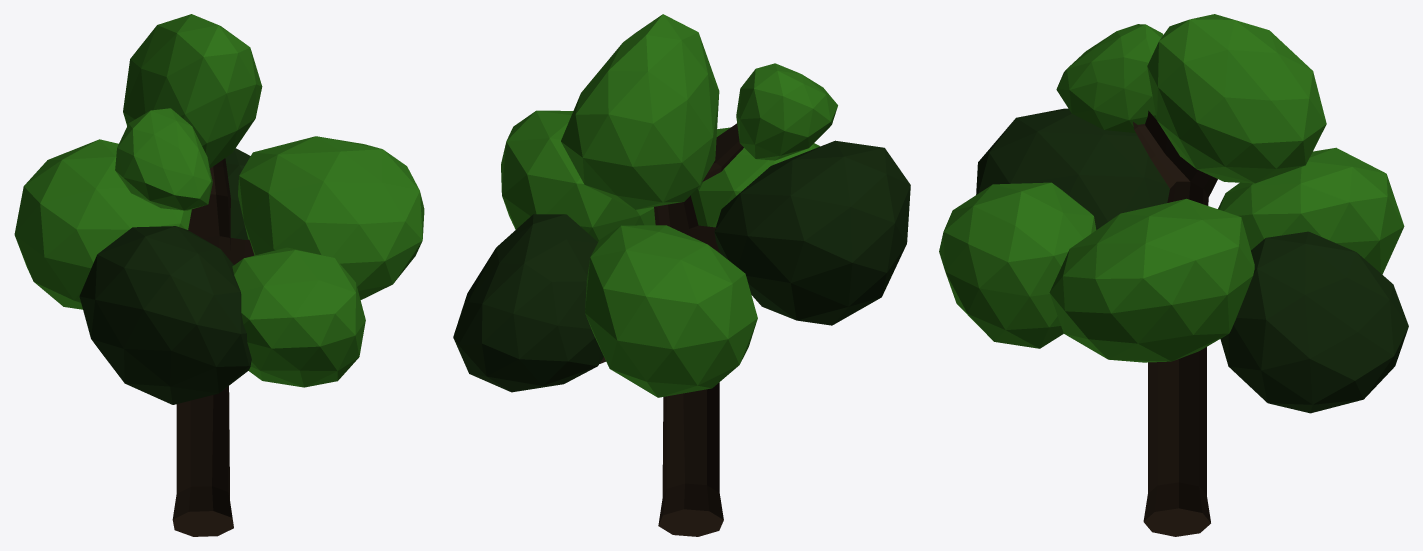
Rendered from Append-TreeSummer.obj.
3 renders of one model, left to right at view 1: azimuth 30°, elevation 25°; view 2: azimuth 150°, elevation 25°; view 3: azimuth 270°, elevation 25°, orthographic. The views are drawn at different scales.
Parts seen in each view (by area): view 1: Cylinder.003_Cylinder.000; view 2: Cylinder.003_Cylinder.000; view 3: Cylinder.003_Cylinder.000.
Part boxes in pixels (left/top/right/bottom): Cylinder.003_Cylinder.000: left=14, top=14, right=424, bottom=536; Cylinder.003_Cylinder.000: left=453, top=14, right=910, bottom=536; Cylinder.003_Cylinder.000: left=939, top=14, right=1408, bottom=536.
Bounding box in the file's own units: 11.44 × 15.65 × 12.97.
